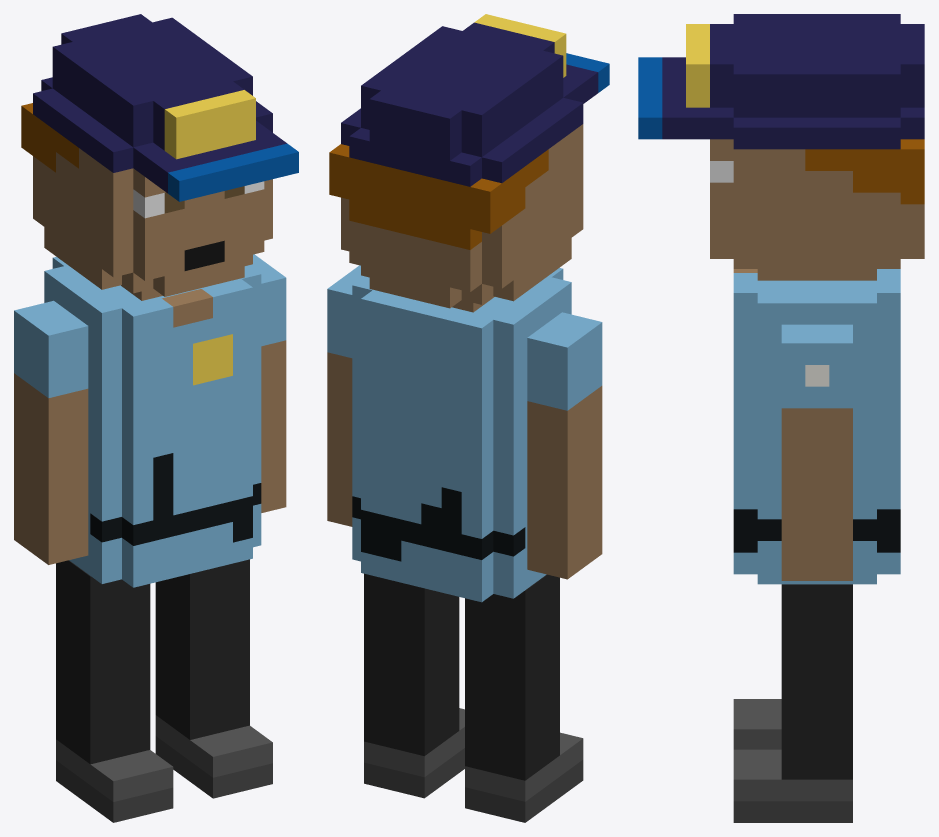
The model's file is Security.fbx.
The picture shows the model from 3 angles, left to right: view 1: azimuth 30°, elevation 25°; view 2: azimuth 150°, elevation 25°; view 3: azimuth 270°, elevation 25°; orthographic projection. The views are drawn at different scales.
Parts seen in each view (by area): view 1: Head, Body, LegR, LegL, ArmR, ArmL; view 2: Head, Body, LegR, LegL, ArmR, ArmL; view 3: Head, Body, LegL, ArmL, LegR.
Boxes of the visible parts, left/top/right/bottom form: Head: left=21, top=14, right=298, bottom=300; Body: left=44, top=257, right=261, bottom=587; LegR: left=56, top=560, right=173, bottom=822; LegL: left=155, top=559, right=272, bottom=798; ArmR: left=14, top=300, right=88, bottom=564; ArmL: left=249, top=254, right=286, bottom=512; Head: left=329, top=14, right=609, bottom=312; Body: left=352, top=268, right=571, bottom=602; LegR: left=465, top=574, right=583, bottom=822; LegL: left=364, top=573, right=464, bottom=798; ArmR: left=527, top=312, right=602, bottom=579; ArmL: left=327, top=265, right=364, bottom=526; Head: left=638, top=14, right=924, bottom=280; Body: left=733, top=269, right=900, bottom=584; LegL: left=733, top=584, right=852, bottom=822; ArmL: left=781, top=324, right=852, bottom=580; LegR: left=733, top=699, right=781, bottom=749.
Size of the model in its own units: 119 by 342 by 120.
